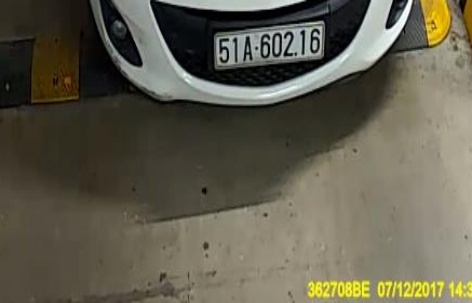plate: (206, 26, 333, 69)
